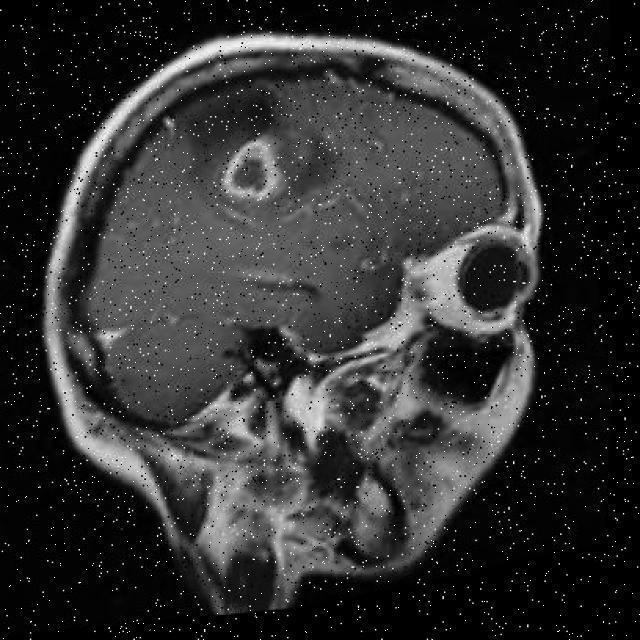LMCI: (176, 84, 332, 286)
